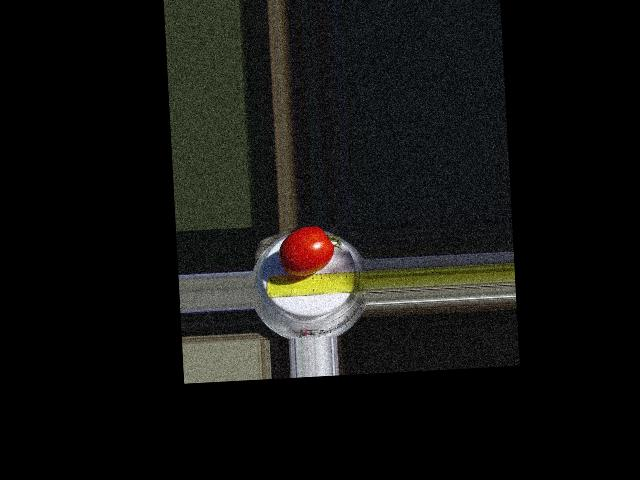tomato: (278, 224, 336, 277)
